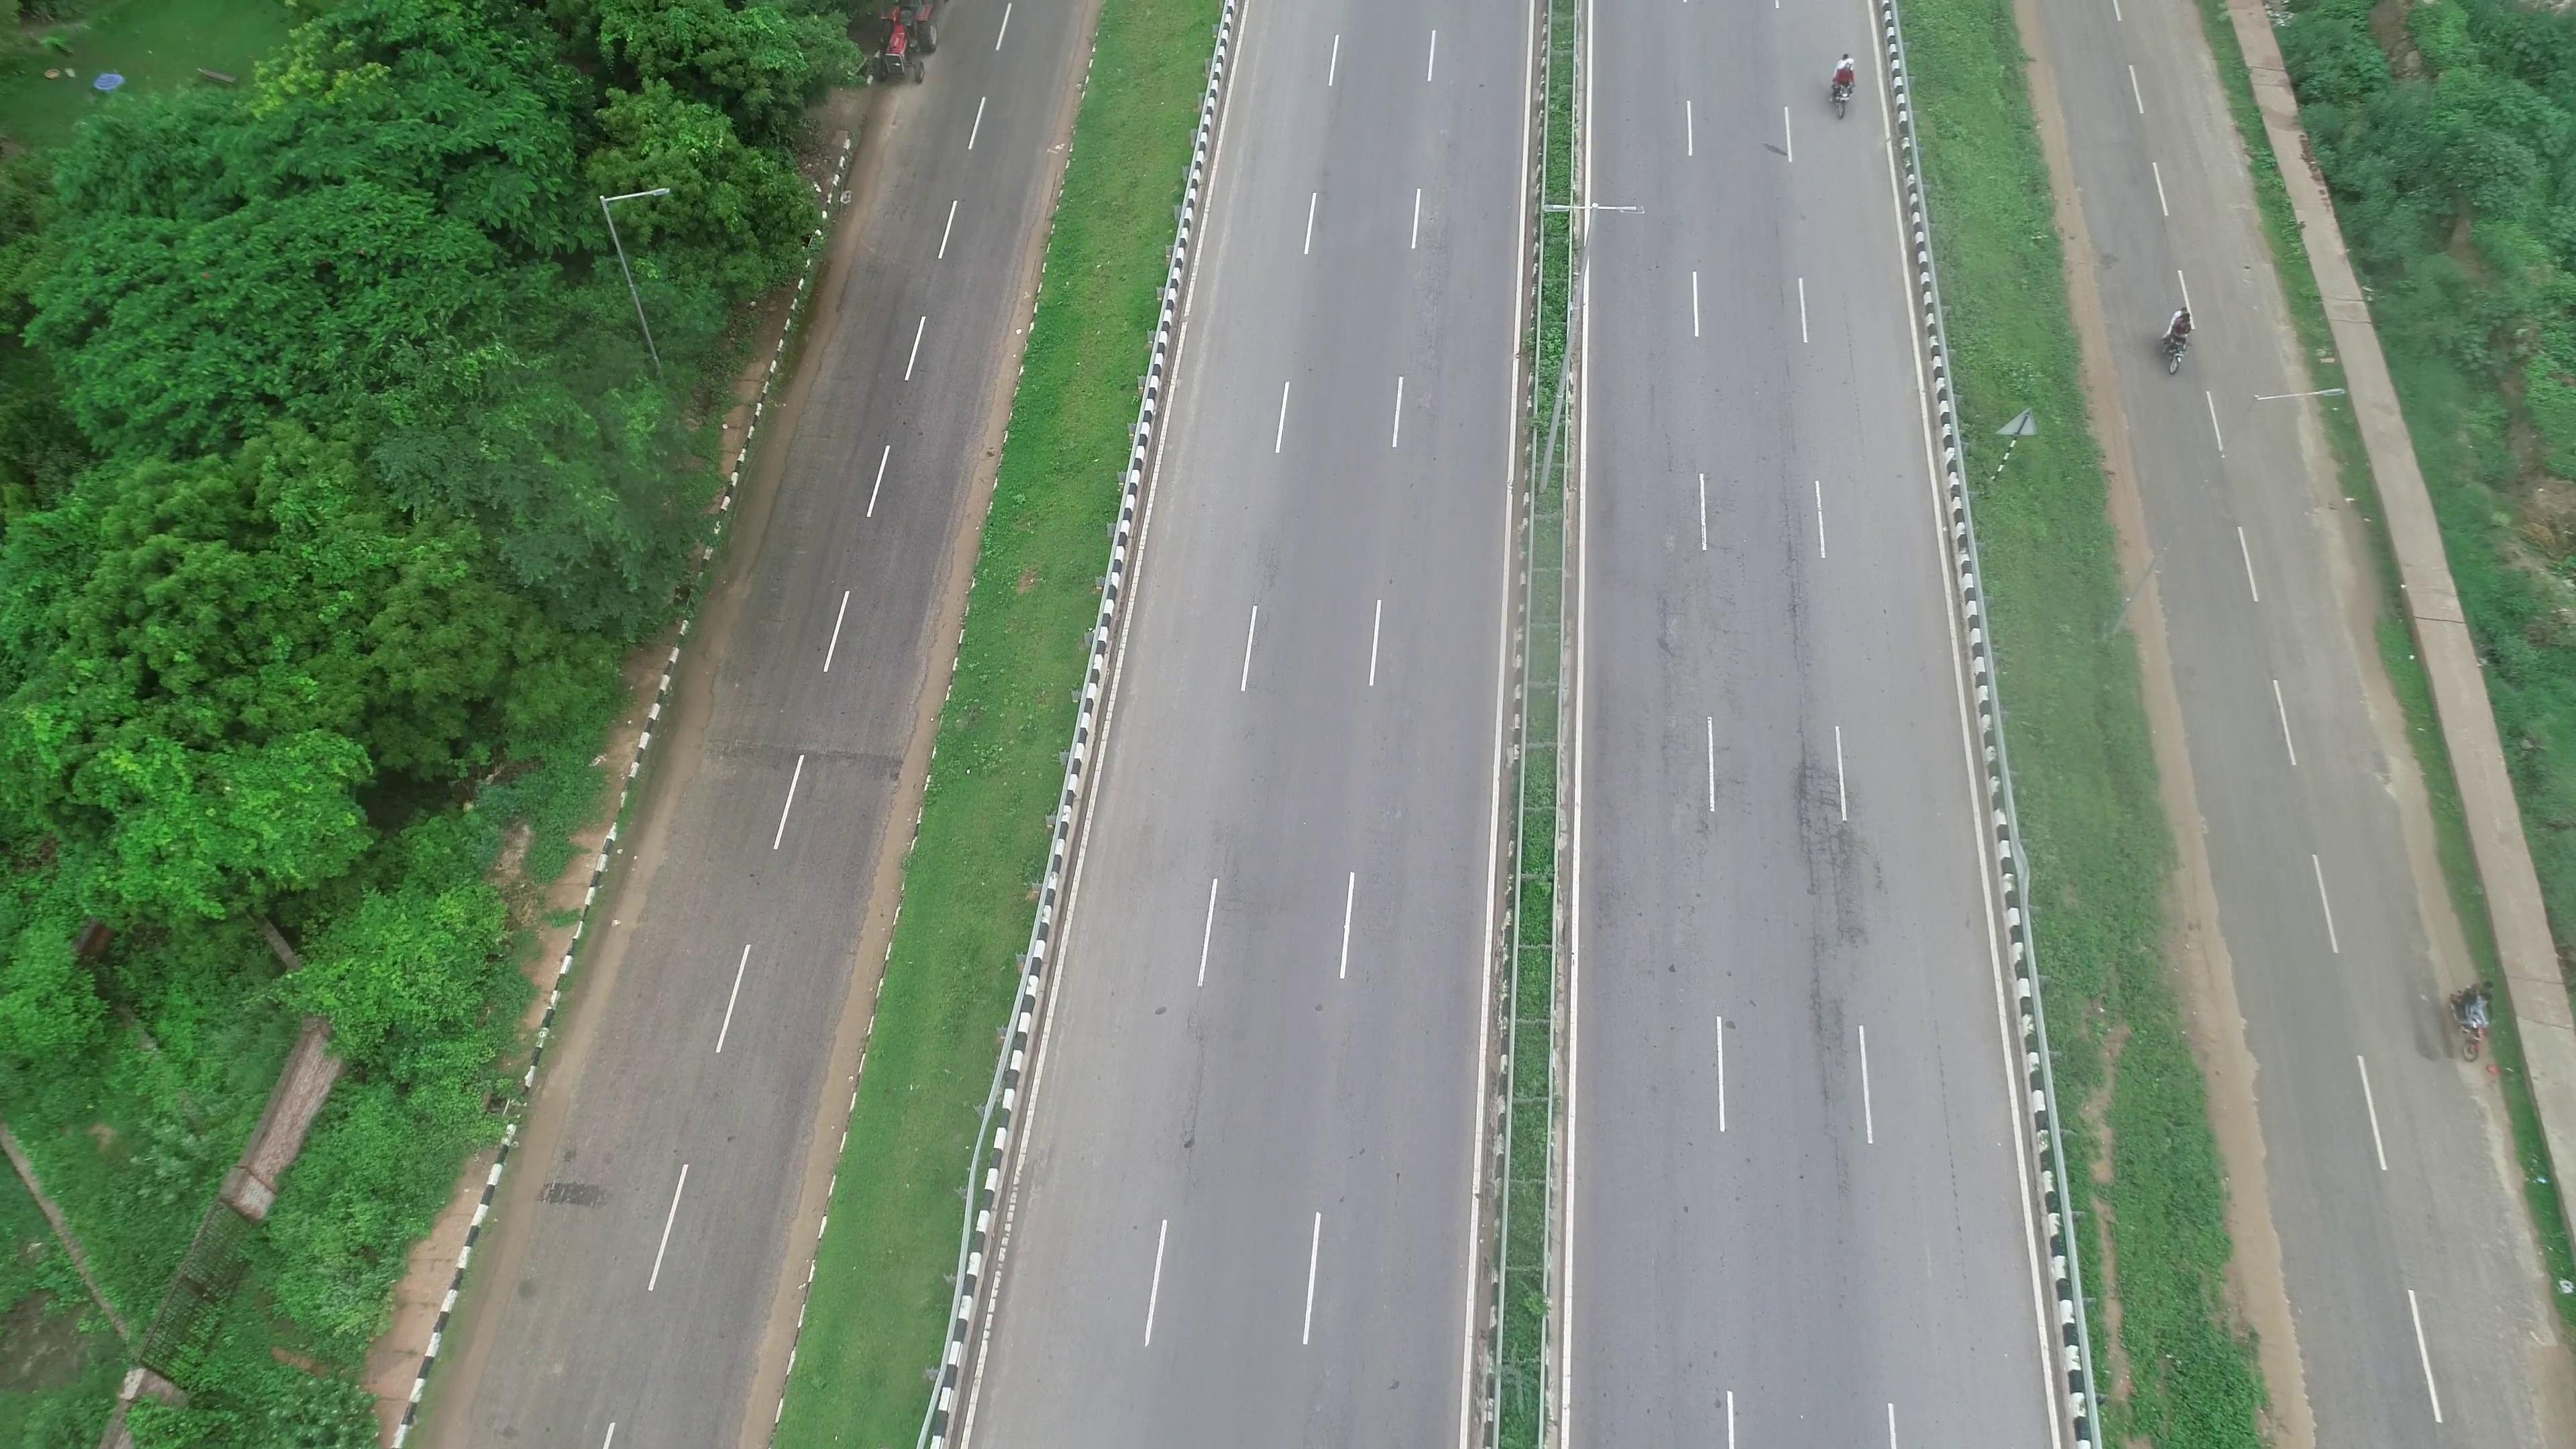Alligator_cracks: (1785, 736, 1858, 1088)
Longitudinal_cracks: (1764, 456, 1808, 701)
